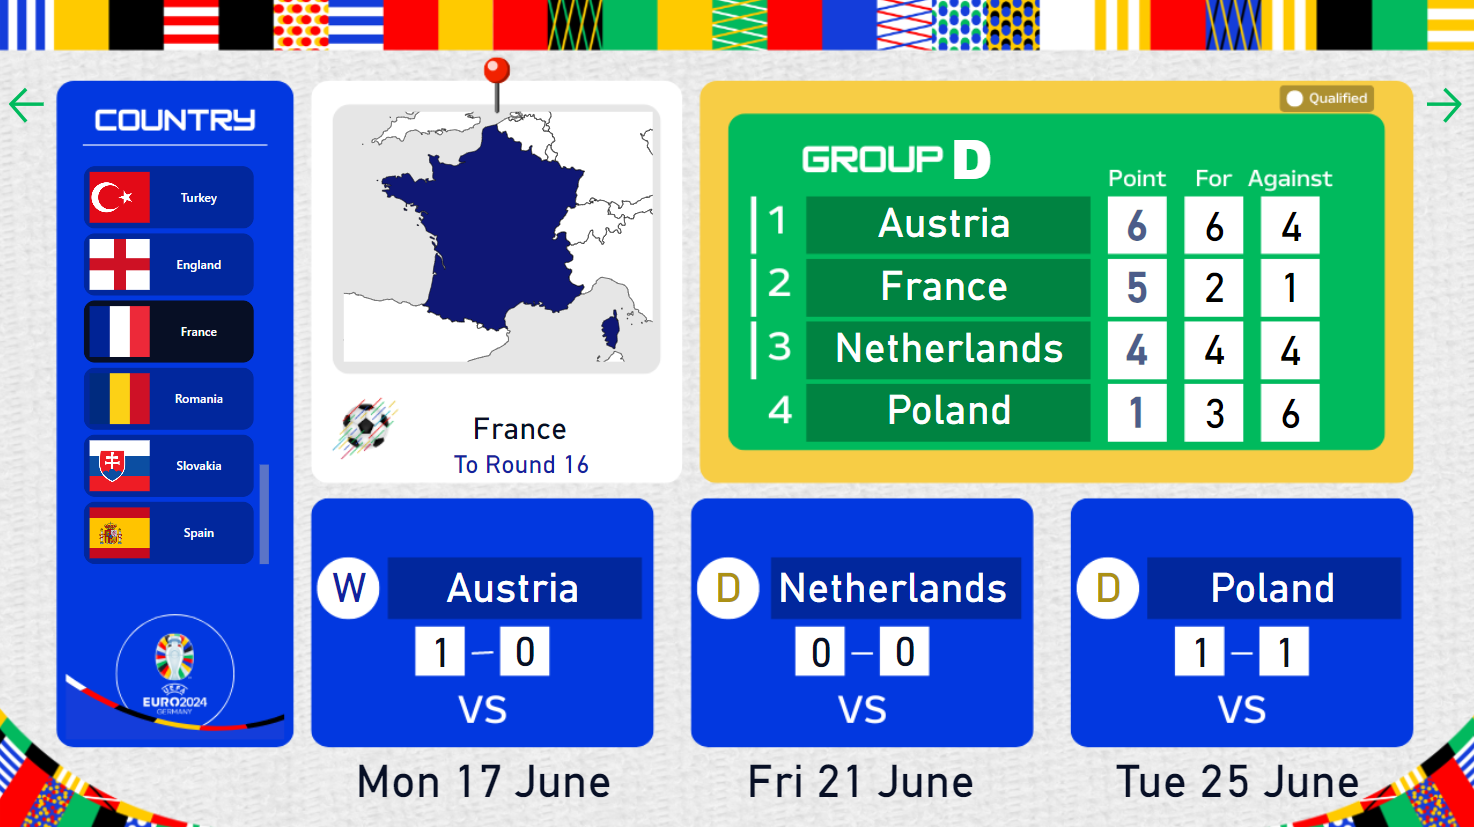

What the dashboard file says about the page in this screenshot:
{"tool":"powerbi","page":{"name":"Tournament","canvas":[1280,720],"ordinal":1},"visuals":[{"type":"advancedSlicerVisual","fields":{"Values":["Countries Total.Country"]},"box":[67.2,137.3,170.9,354.3],"z":0},{"type":"shapeMap","fields":{"Category":["Countries Total.Topo_Id"],"Series":["Countries Total.Country"],"Value":["CountNonNull(Countries Total.Country)"]},"box":[291.9,92.2,276.5,225.7],"z":1000},{"type":"card","fields":{"Values":["Groups Total.SelectedGroup"]},"box":[809,101,61,70],"z":2000},{"type":"card","fields":{"Values":["Groups Detail.FirstVS"]},"box":[332.2,474.4,222.8,61.5],"z":3000},{"type":"card","fields":{"Values":["Groups Detail.FirstResultAbbreviation"]},"box":[229.5,470.5,144,69.1],"z":4000},{"type":"card","fields":{"Values":["Groups Detail.FirstAgainst"]},"box":[434,538.7,40.3,44.2],"z":5000},{"type":"card","fields":{"Values":["Groups Detail.FirstDate"]},"box":[267.9,636.6,300.6,69.1],"z":6000},{"type":"card","fields":{"Values":["Countries Total.SelectedCountry"]},"box":[341.8,349.5,216.1,40.3],"z":7000},{"type":"card","fields":{"Values":["Groups Total2.FirstCountryByGroup"]},"box":[669.9,155.8,292.8,67.9],"z":8000},{"type":"card","fields":{"Values":["Groups Total2.SecondCountryByGroup"]},"box":[669.9,209.6,292.8,67.9],"z":9000},{"type":"card","fields":{"Values":["Groups Total2.ThirdCountryByGroup"]},"box":[674.5,263.5,292.8,67.9],"z":10000},{"type":"card","fields":{"Values":["Groups Total2.FourthCountryByGroup"]},"box":[674.5,317.4,292.8,67.9],"z":11000},{"type":"card","fields":{"Values":["Groups Total2.FirstCountryPointByGroup"]},"box":[951.8,160,61.8,64.5],"z":12000},{"type":"card","fields":{"Values":["Groups Total2.SecondCountryPointByGroup"]},"box":[951.8,213.6,61.8,64.5],"z":13000},{"type":"card","fields":{"Values":["Groups Total2.ThirdCountryPointByGroup"]},"box":[951.8,267.3,61.8,64.5],"z":14000},{"type":"card","fields":{"Values":["Groups Total2.FourthCountryPointByGroup"]},"box":[951.8,321.8,61.8,64.5],"z":15000},{"type":"card","fields":{"Values":["Groups Total2.FirstCountryForByGroup"]},"box":[1018.8,160.4,61.5,64.3],"z":16000},{"type":"card","fields":{"Values":["Groups Total2.SecondCountryForByGroup"]},"box":[1018.8,213.2,61.5,64.3],"z":17000},{"type":"card","fields":{"Values":["Groups Total2.ThirdCountryForByGroup"]},"box":[1018.8,266.9,61.5,64.3],"z":18000},{"type":"card","fields":{"Values":["Groups Total2.FourthCountryForByGroup"]},"box":[1019.8,322.6,61.5,64.3],"z":19000},{"type":"card","fields":{"Values":["Groups Total2.FirstCountryAgainstByGroup"]},"box":[1086,160.4,61.5,64.3],"z":20000},{"type":"card","fields":{"Values":["Groups Total2.SecondCountryAgainstByGroup"]},"box":[1085.1,213.2,61.5,64.3],"z":21000},{"type":"card","fields":{"Values":["Groups Total2.ThirdCountryAgainstByGroup"]},"box":[1085.1,267.9,61.5,64.3],"z":22000},{"type":"card","fields":{"Values":["Groups Total2.FourthCountryAgainstByGroup"]},"box":[1085.1,322.6,61.5,64.3],"z":23000},{"type":"card","fields":{"Values":["Groups Detail.FirstFor"]},"box":[361.1,539.7,40.3,44.2],"z":24000},{"type":"card","fields":{"Values":["Groups Detail.SecondVS"]},"box":[660.6,474.4,222.8,61.5],"z":25000},{"type":"card","fields":{"Values":["Groups Detail.SecondResultAbbreviation"]},"box":[557.9,470.5,144,69.1],"z":26000},{"type":"card","fields":{"Values":["Groups Detail.SecondFor"]},"box":[689.5,539.7,40.3,44.2],"z":27000},{"type":"card","fields":{"Values":["Groups Detail.SecondAgainst"]},"box":[762.4,538.7,40.3,44.2],"z":28000},{"type":"card","fields":{"Values":["Groups Detail.SecondDate"]},"box":[593.4,636.6,300.6,69.1],"z":29000},{"type":"card","fields":{"Values":["Groups Detail.ThirdResultAbbreviation"]},"box":[886.3,470.5,144,69.1],"z":30000},{"type":"card","fields":{"Values":["Groups Detail.ThirdVS"]},"box":[989,474.4,222.8,61.5],"z":31000},{"type":"card","fields":{"Values":["Groups Detail.ThirdFor"]},"box":[1017.9,539.7,40.3,44.2],"z":32000},{"type":"card","fields":{"Values":["Groups Detail.ThirdAgainst"]},"box":[1090.8,539.7,40.3,44.2],"z":33000},{"type":"card","fields":{"Values":["Groups Detail.ThirdDate"]},"box":[919.9,636.6,300.6,69.1],"z":34000},{"type":"card","fields":{"Values":["Groups Total.Survived"]},"box":[370.7,386,159.4,30.7],"z":35000},{"type":"card","fields":{"Values":["Groups Total2.MaskTransparency"]},"box":[633.3,278.3,27.5,62.5],"z":36000},{"type":"actionButton","box":[1227.2,72,44.2,40.3],"z":37000},{"type":"actionButton","box":[3.8,72,41.3,40.3],"z":38000}]}

Visuals, with their boxes in screenshot pixels (x1, y1, x2, y2), scaled from the page's 1280x720 canvas onto the 1474x827 screenshot:
advancedSlicerVisual - Countries Total.Country: (77, 158, 274, 565)
shapeMap - Countries Total.Topo_Id x Countries Total.Country: (336, 106, 655, 365)
card - Groups Total.SelectedGroup: (932, 116, 1002, 196)
card - Groups Detail.FirstVS: (383, 545, 639, 616)
card - Groups Detail.FirstResultAbbreviation: (264, 540, 430, 620)
card - Groups Detail.FirstAgainst: (500, 619, 546, 670)
card - Groups Detail.FirstDate: (309, 731, 655, 811)
card - Countries Total.SelectedCountry: (394, 401, 642, 448)
card - Groups Total2.FirstCountryByGroup: (771, 179, 1109, 257)
card - Groups Total2.SecondCountryByGroup: (771, 241, 1109, 319)
card - Groups Total2.ThirdCountryByGroup: (777, 303, 1114, 381)
card - Groups Total2.FourthCountryByGroup: (777, 365, 1114, 443)
card - Groups Total2.FirstCountryPointByGroup: (1096, 184, 1167, 258)
card - Groups Total2.SecondCountryPointByGroup: (1096, 245, 1167, 319)
card - Groups Total2.ThirdCountryPointByGroup: (1096, 307, 1167, 381)
card - Groups Total2.FourthCountryPointByGroup: (1096, 370, 1167, 444)
card - Groups Total2.FirstCountryForByGroup: (1173, 184, 1244, 258)
card - Groups Total2.SecondCountryForByGroup: (1173, 245, 1244, 319)
card - Groups Total2.ThirdCountryForByGroup: (1173, 307, 1244, 380)
card - Groups Total2.FourthCountryForByGroup: (1174, 371, 1245, 444)
card - Groups Total2.FirstCountryAgainstByGroup: (1251, 184, 1321, 258)
card - Groups Total2.SecondCountryAgainstByGroup: (1250, 245, 1320, 319)
card - Groups Total2.ThirdCountryAgainstByGroup: (1250, 308, 1320, 382)
card - Groups Total2.FourthCountryAgainstByGroup: (1250, 371, 1320, 444)
card - Groups Detail.FirstFor: (416, 620, 462, 671)
card - Groups Detail.SecondVS: (761, 545, 1017, 616)
card - Groups Detail.SecondResultAbbreviation: (642, 540, 808, 620)
card - Groups Detail.SecondFor: (794, 620, 840, 671)
card - Groups Detail.SecondAgainst: (878, 619, 924, 670)
card - Groups Detail.SecondDate: (683, 731, 1029, 811)
card - Groups Detail.ThirdResultAbbreviation: (1021, 540, 1186, 620)
card - Groups Detail.ThirdVS: (1139, 545, 1395, 616)
card - Groups Detail.ThirdFor: (1172, 620, 1219, 671)
card - Groups Detail.ThirdAgainst: (1256, 620, 1303, 671)
card - Groups Detail.ThirdDate: (1059, 731, 1405, 811)
card - Groups Total.Survived: (427, 443, 610, 479)
card - Groups Total2.MaskTransparency: (729, 320, 761, 391)
actionButton: (1413, 83, 1464, 129)
actionButton: (4, 83, 52, 129)
